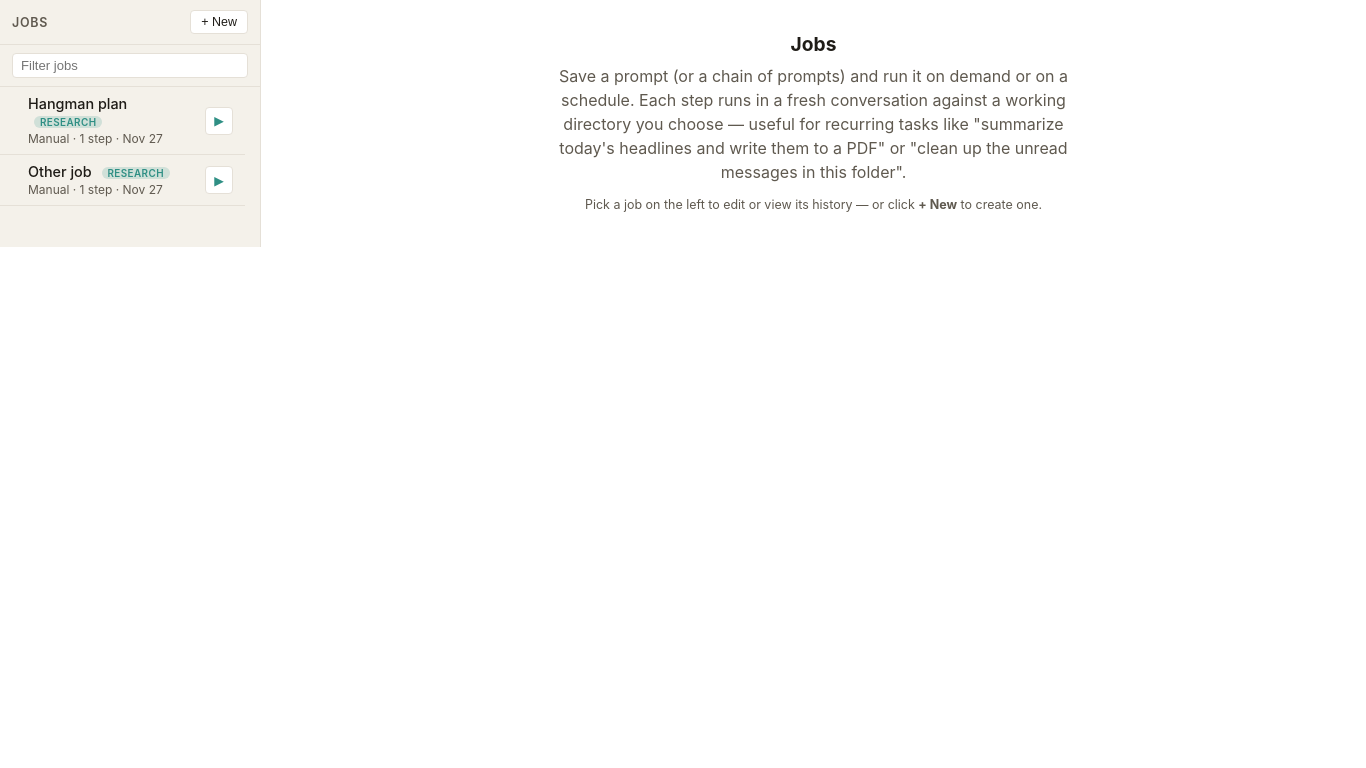
Test: JobsTab — running a job with unsaved edits › prompts instead of running the stored version
Click the text "Hangman plan" at (78, 112), box [28, 95, 127, 128]
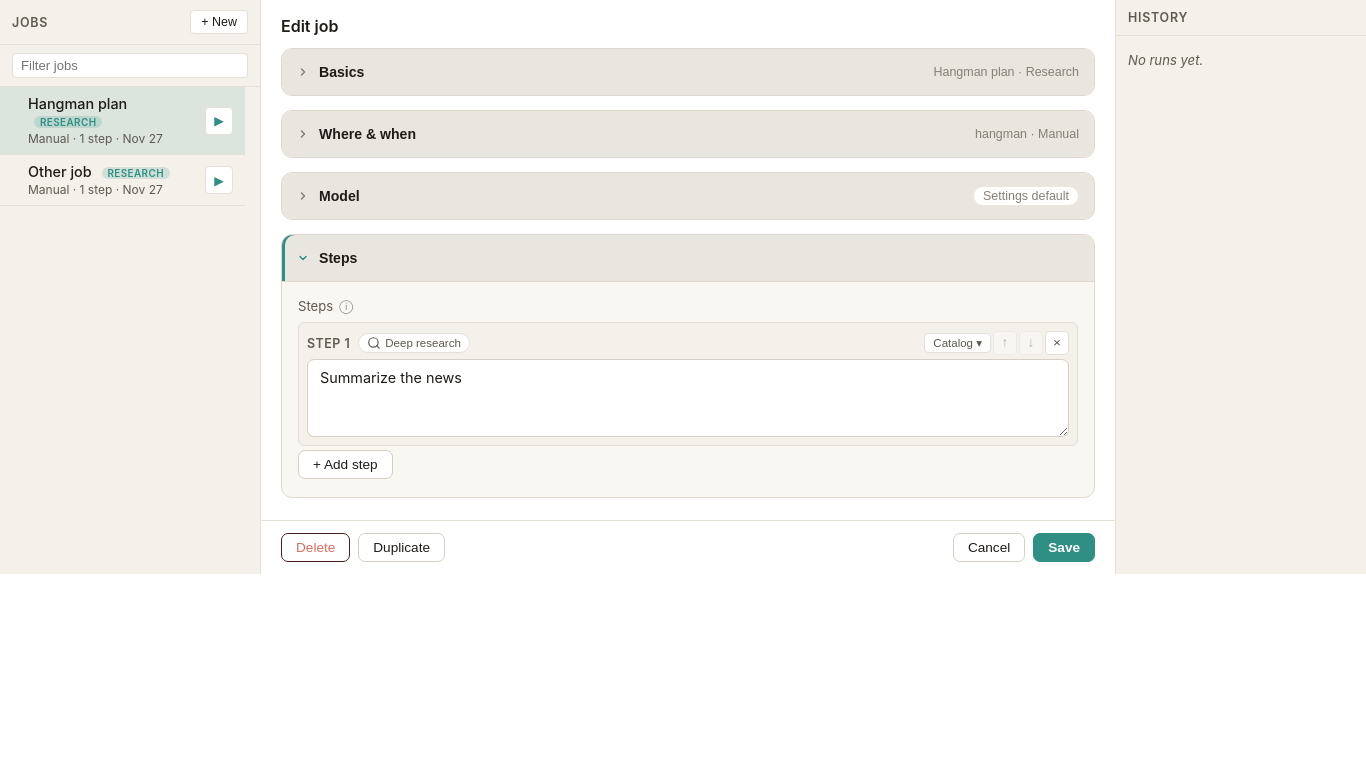
Click the text "Basics" at (342, 72), box [319, 64, 364, 80]
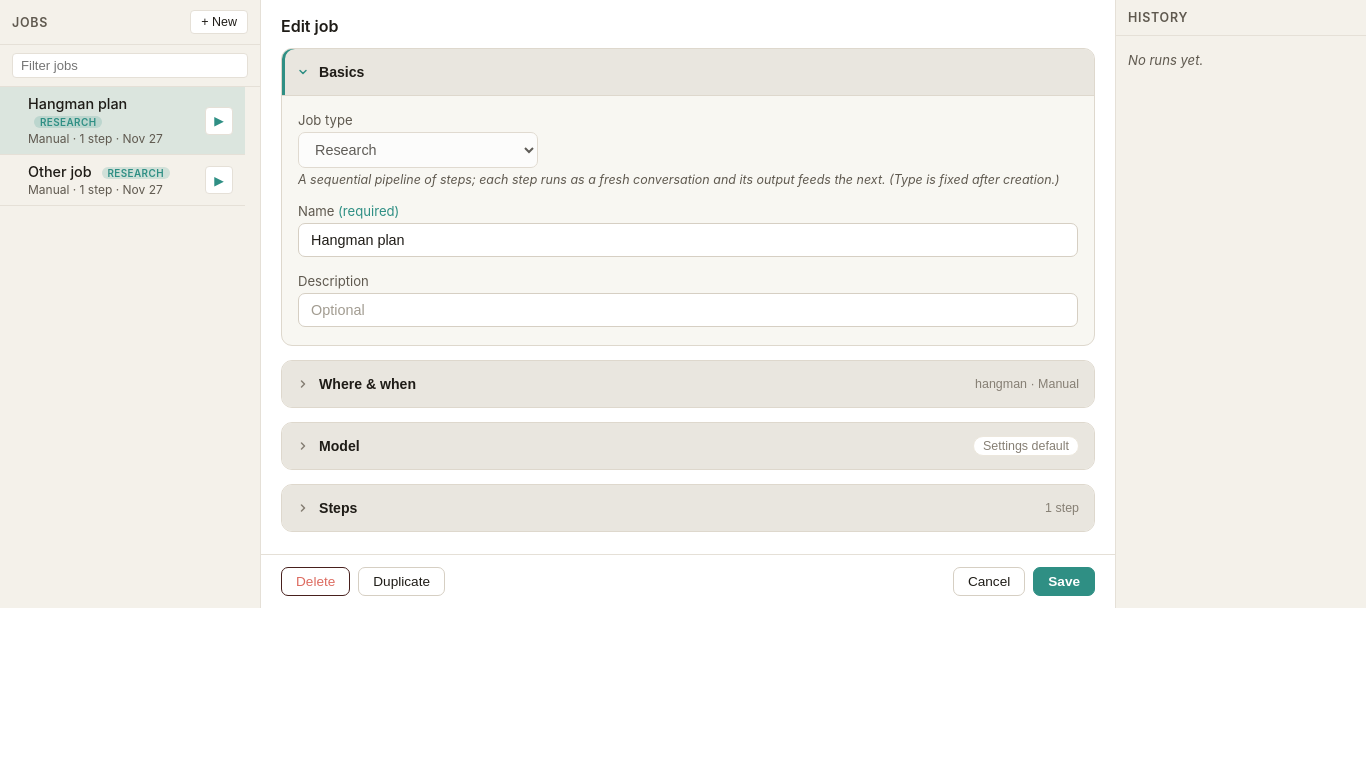
Check: the field showing "Hangman plan" is shown
Replace the text in the field showing "Hangman plan" with "Hangman plan v2" at (688, 240), box [298, 223, 1078, 257]
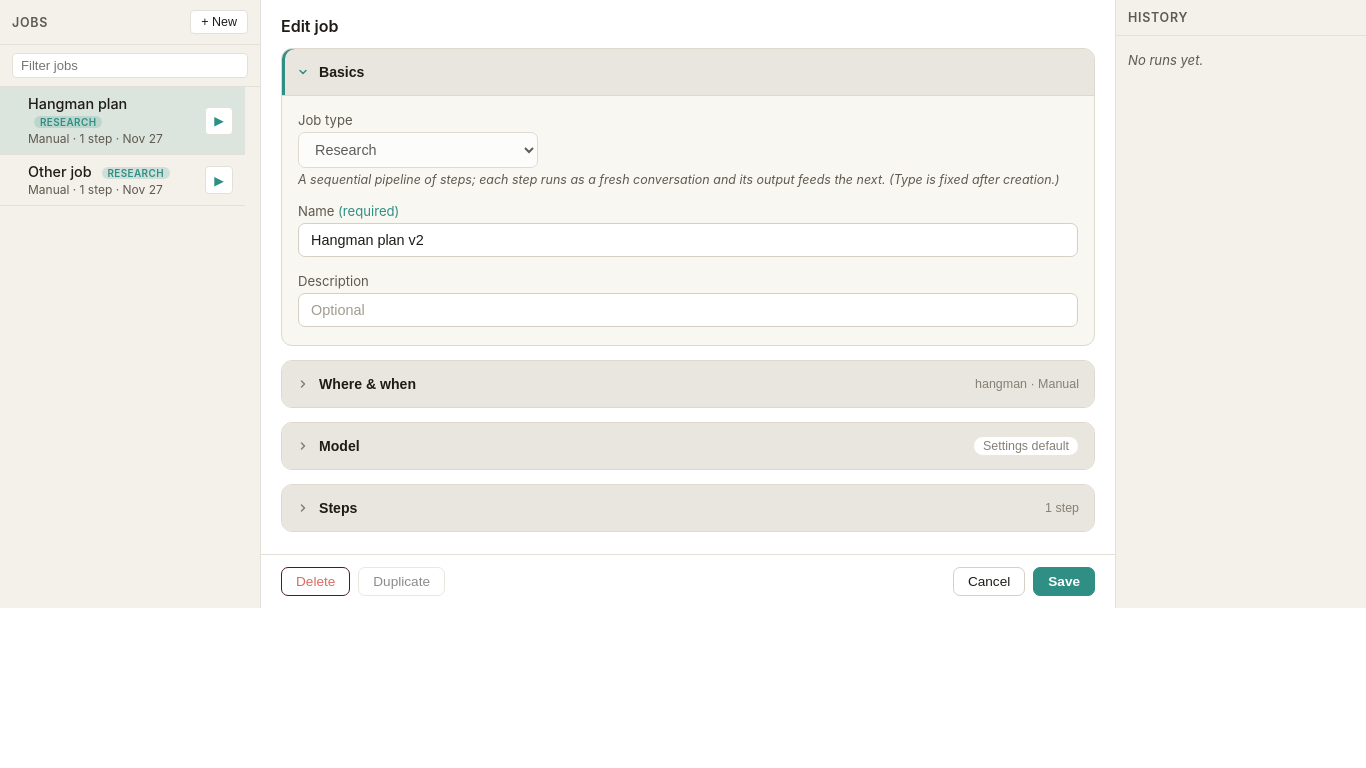
Click the 1st button titled "Run now" at (219, 120), box [205, 106, 233, 134]
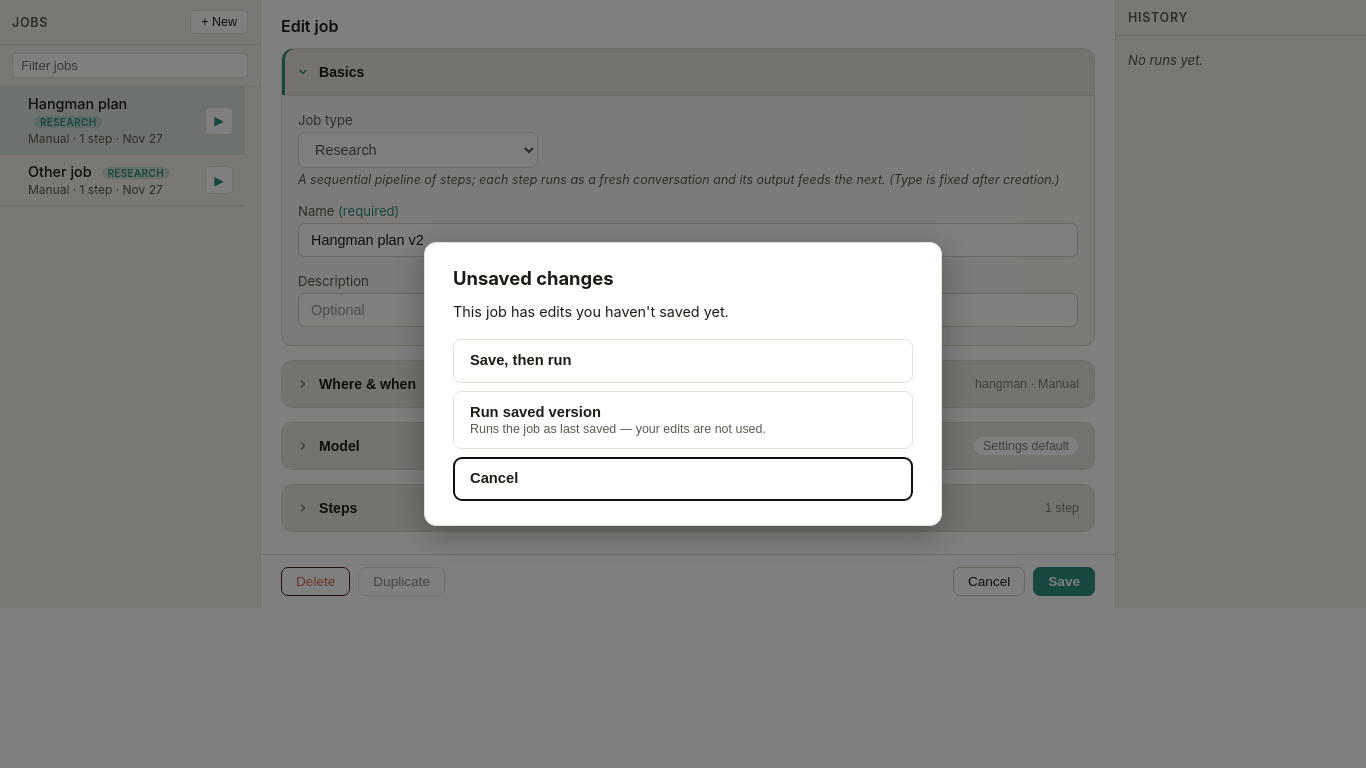
Check: the heading "Unsaved changes" is shown, box [453, 267, 614, 289]
